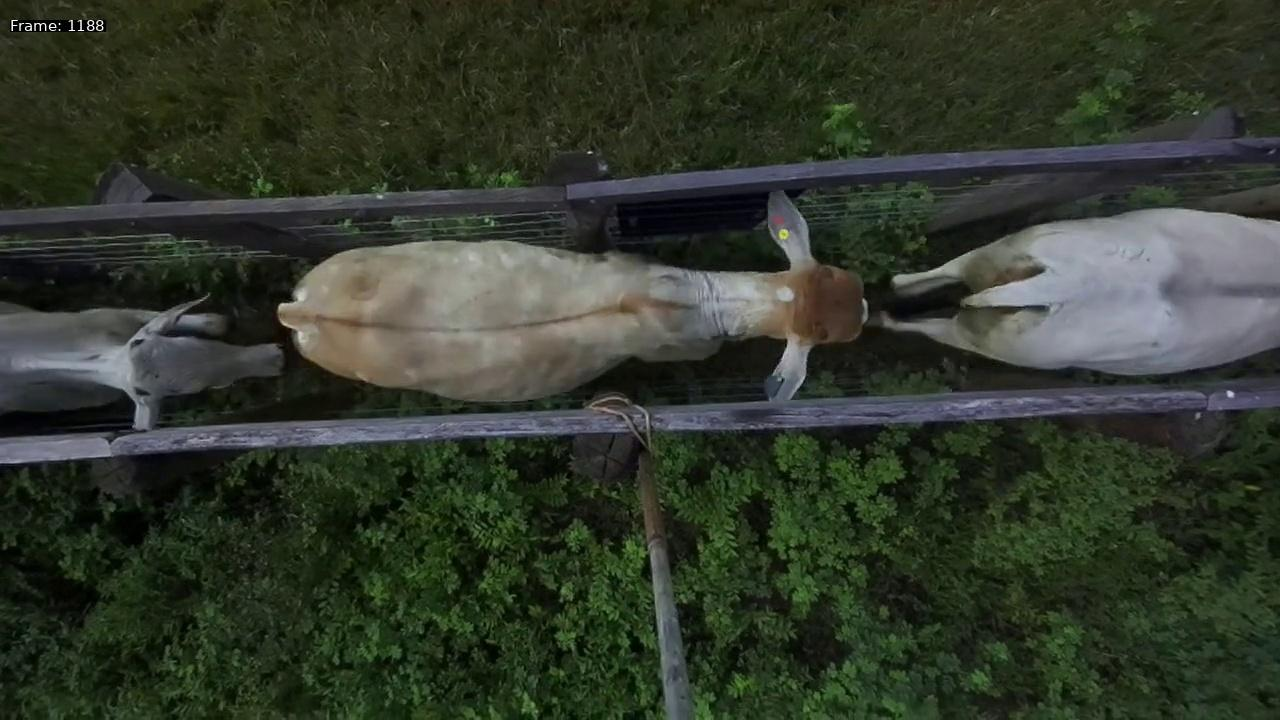cattle: (262, 172, 881, 408)
